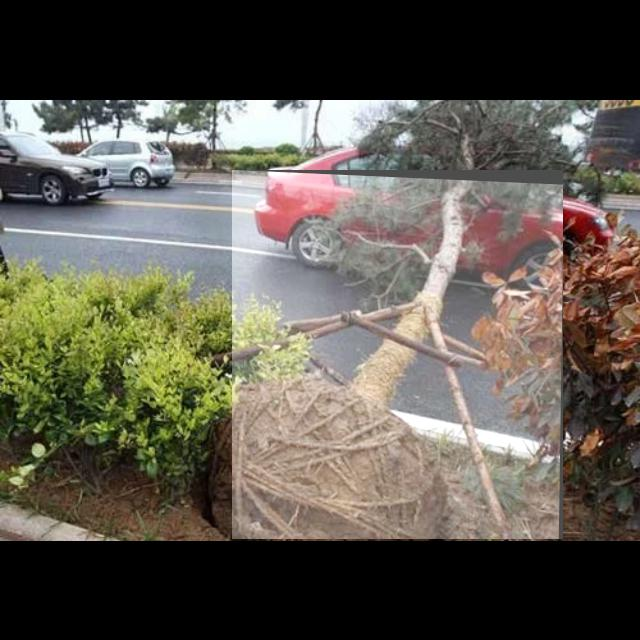Fallen Tree: (232, 170, 564, 540)
